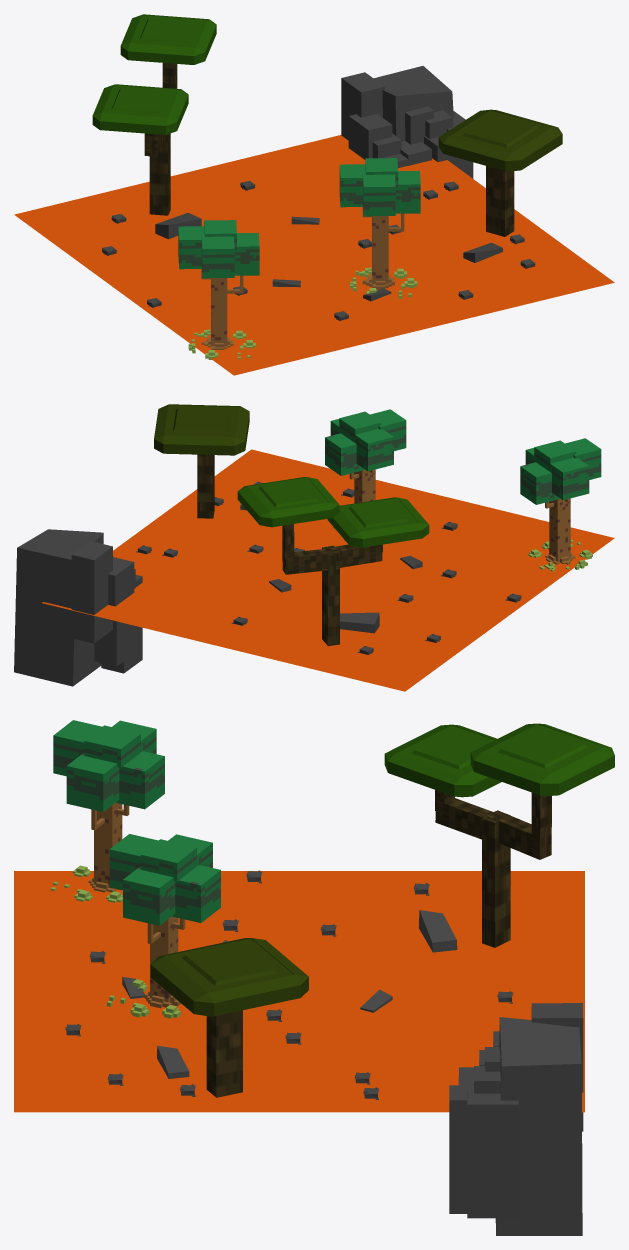
The model's file is center_top.glb.
The picture shows the model from 3 angles, top to bottom: view 1: azimuth 30°, elevation 25°; view 2: azimuth 150°, elevation 25°; view 3: azimuth 270°, elevation 25°; orthographic projection. The views are drawn at different scales.
Visible parts, largest first — view 1: TC, Cube.080, Mountain.007, TREE 02.007, TREE 02.010, Cube.099, Cube.095, Cube.108; view 2: TC, Mountain.007, Cube.080, TREE 02.010, TREE 02.007, Cube.099, Cube.095, Cube.108; view 3: TC, Mountain.007, Cube.080, TREE 02.010, TREE 02.007, Cube.099, Cube.095, Cube.108, Cube.207.
Part boxes in pixels (box(x1,y1,x2,y2)): TC: box(14, 135, 614, 375); Cube.080: box(92, 14, 216, 215); Mountain.007: box(341, 66, 473, 178); TREE 02.007: box(339, 158, 420, 298); TREE 02.010: box(178, 220, 259, 359); Cube.099: box(438, 109, 562, 171); Cube.095: box(486, 166, 514, 236); Cube.108: box(155, 212, 201, 239); TC: box(42, 449, 614, 691); Mountain.007: box(14, 529, 142, 686); Cube.080: box(237, 477, 429, 646); TREE 02.010: box(520, 438, 601, 571); TREE 02.007: box(325, 409, 406, 540); Cube.099: box(154, 404, 249, 455); Cube.095: box(197, 454, 214, 518); Cube.108: box(340, 612, 379, 633); TC: box(14, 871, 584, 1112); Mountain.007: box(449, 1003, 583, 1235); Cube.080: box(384, 723, 614, 947); TREE 02.010: box(50, 720, 164, 902); TREE 02.007: box(107, 834, 220, 1018); Cube.099: box(150, 938, 308, 1016); Cube.095: box(206, 1010, 242, 1097); Cube.108: box(419, 910, 457, 952); Cube.207: box(157, 1045, 189, 1078).
Size of the model in its own units: 248 by 135 by 232.
10 materials, 3 textured.
